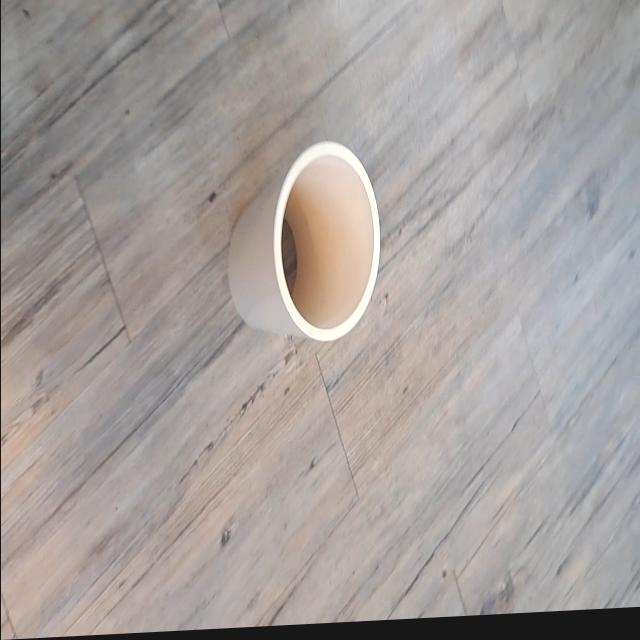CORAL: (214, 117, 392, 386)
